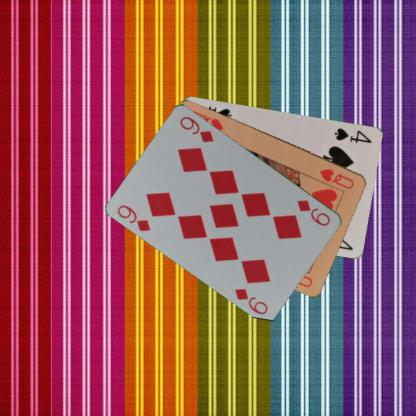4s: (332, 125, 373, 144)
9d: (115, 202, 153, 233), (295, 197, 332, 228)
Qh: (318, 166, 355, 190)
